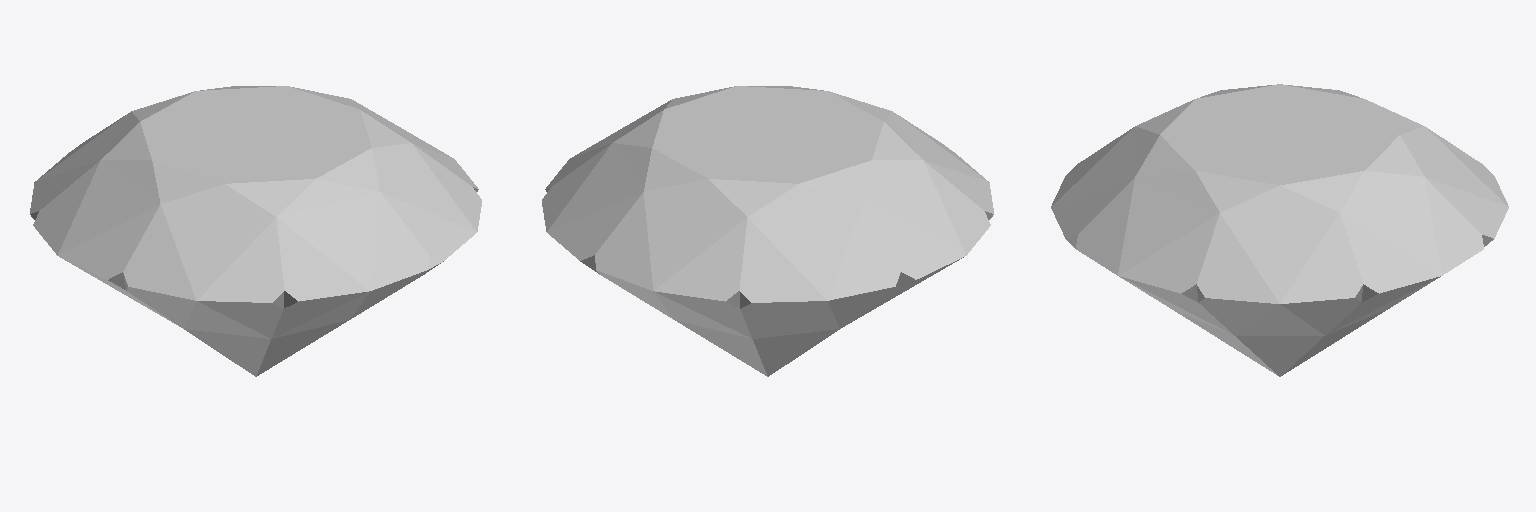
File: diamond.obj
3 renders of one model, left to right at view 1: azimuth 30°, elevation 25°; view 2: azimuth 150°, elevation 25°; view 3: azimuth 270°, elevation 25°, orthographic.
Parts seen in each view (by area): view 1: diamond:Mesh; view 2: diamond:Mesh; view 3: diamond:Mesh.
Boxes of the visible parts, <box> form: diamond:Mesh: <box>30,86,481,376</box>; diamond:Mesh: <box>542,86,993,376</box>; diamond:Mesh: <box>1051,84,1508,376</box>.
Size of the model in its own units: 2 by 1.17 by 2.